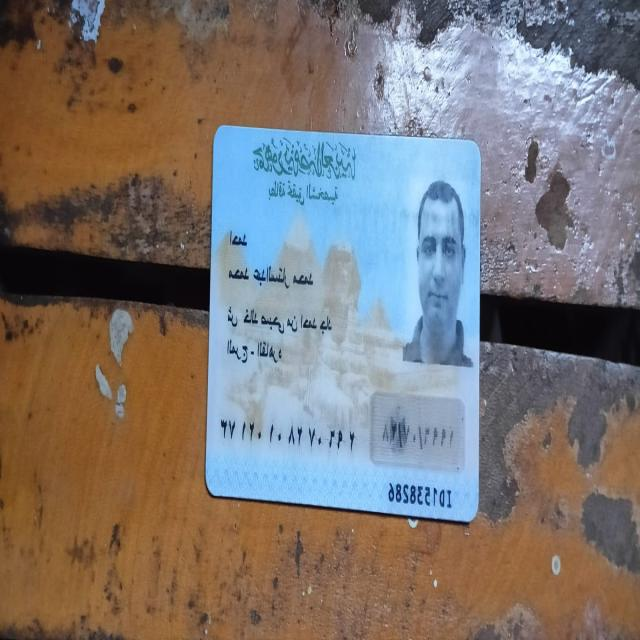id_card: (201, 116, 488, 530)
